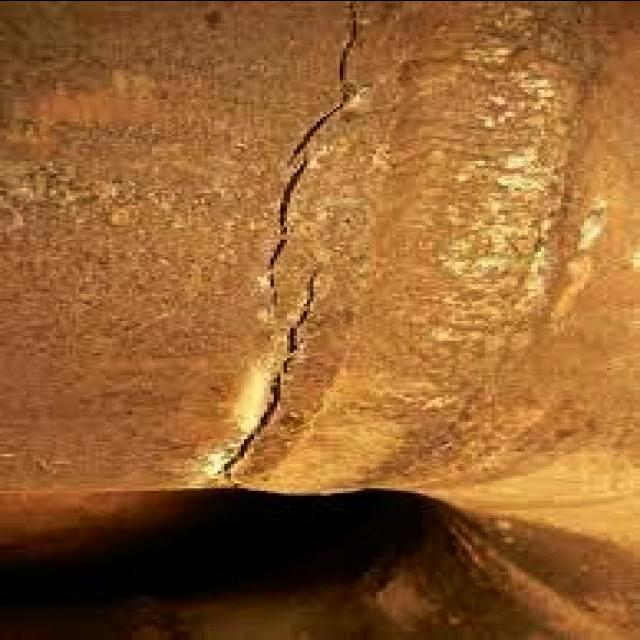defect: (259, 0, 368, 319), (215, 249, 327, 487)
